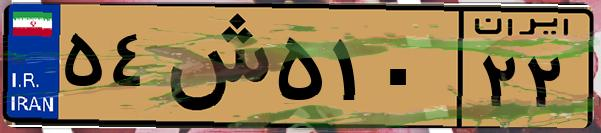0: (385, 28, 445, 110)
1: (330, 28, 385, 110)
2: (475, 38, 525, 113), (525, 38, 570, 115)
4: (110, 28, 158, 98)
5: (270, 28, 330, 110), (57, 26, 110, 100)
ش: (158, 12, 270, 120)
